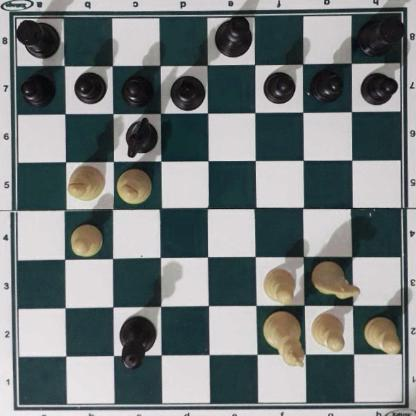black-bishop: (167, 74, 206, 112)
black-king: (212, 14, 253, 58)
black-knight: (122, 115, 157, 159)
black-pawn: (360, 69, 396, 105), (262, 69, 295, 103), (20, 72, 54, 104), (73, 70, 105, 104), (121, 72, 153, 106), (311, 67, 343, 100)
black-queen: (117, 314, 157, 370)
black-rook: (13, 16, 60, 58), (358, 14, 405, 55)
white-bishop: (67, 165, 105, 201), (116, 168, 152, 204)
white-king: (262, 309, 306, 370)
white-knight: (313, 260, 361, 300)
white-pawn: (363, 315, 400, 354), (311, 313, 346, 353), (262, 265, 298, 303), (69, 223, 103, 257)
